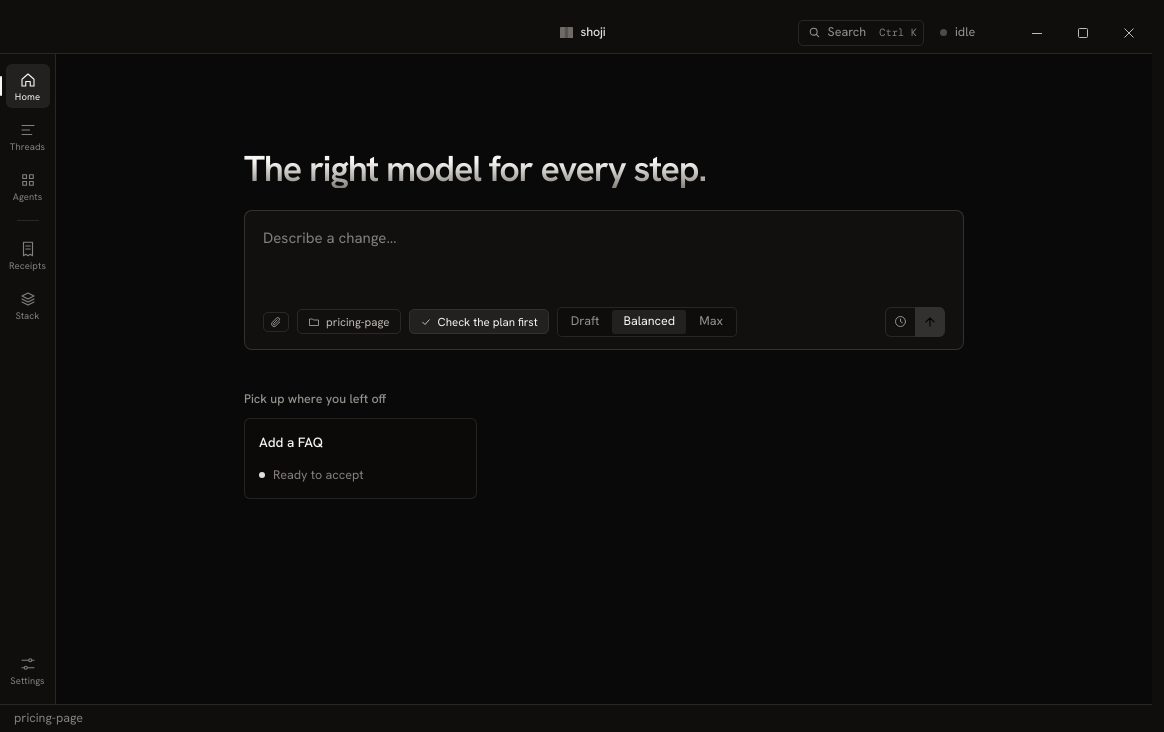
Test case: the routing receipt at Accept › is hidden with Costs off
This screenshot has width=1164, height=732.
Click the button "Threads" at (28, 136), box left=6, top=114, right=50, bottom=158
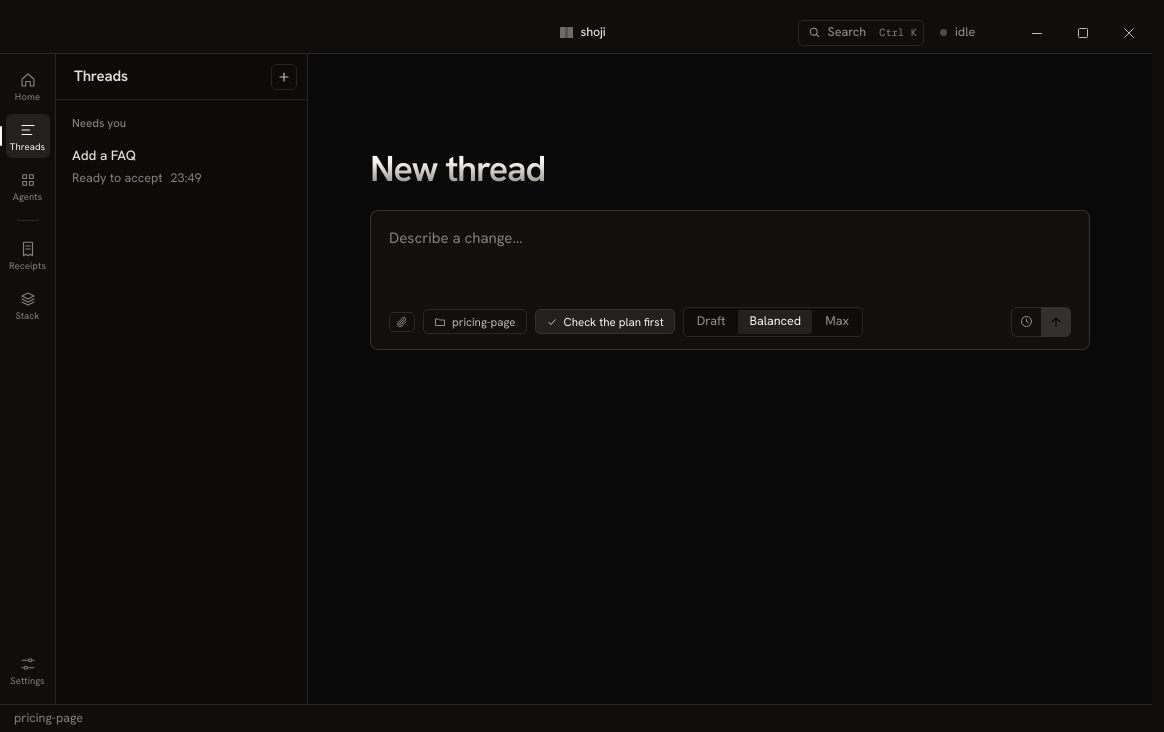
Click the button "Add a FAQ Ready to accept 23:49" at (182, 166), box left=62, top=137, right=301, bottom=195
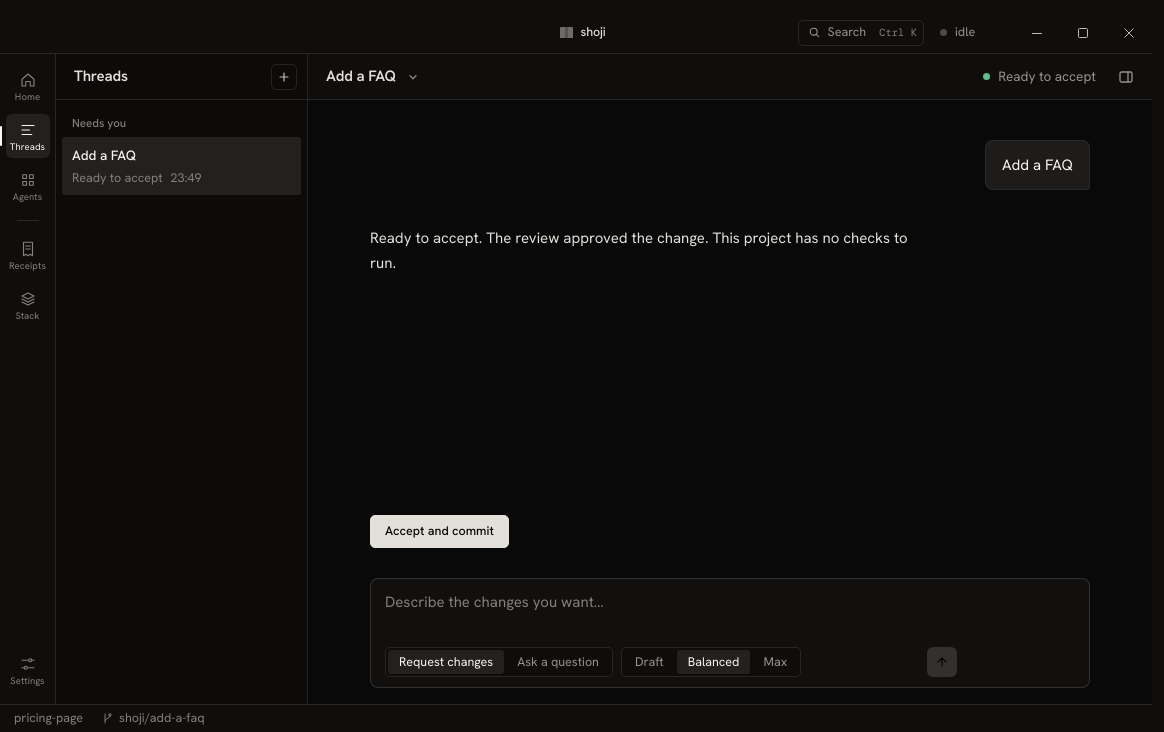
Expected: the button "Accept and commit" is shown, left=370, top=515, right=509, bottom=548
